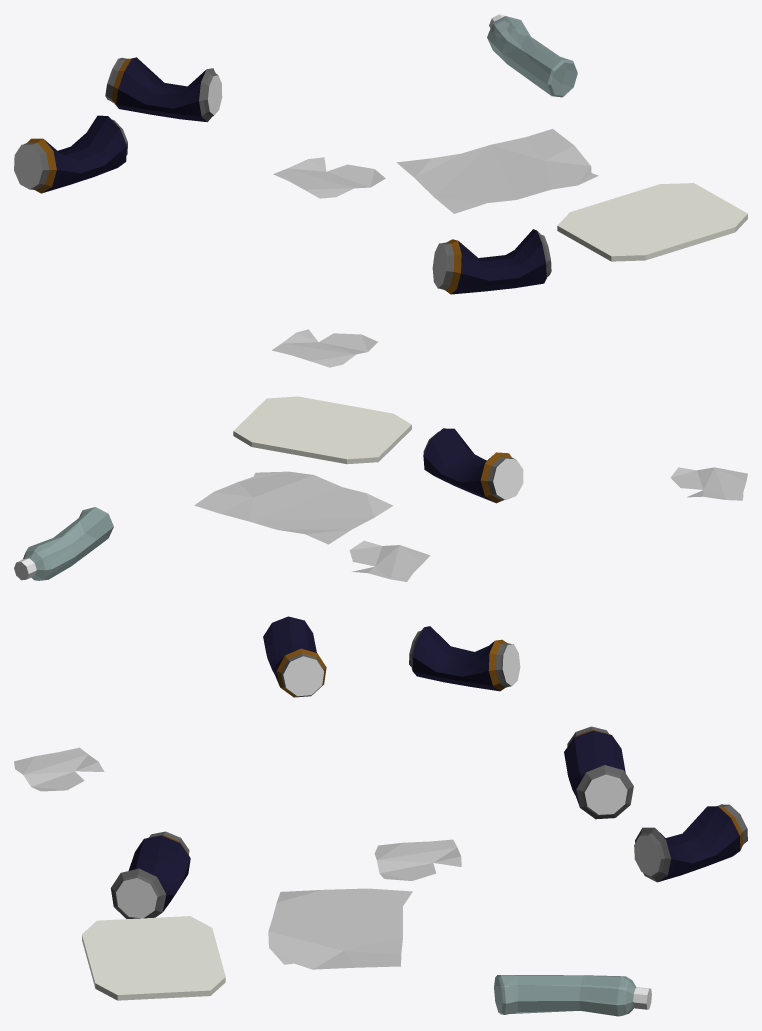
The model's file is WarehouseTrash7.glb.
The picture shows the model from 3 angles, top to bottom: view 1: azimuth 30°, elevation 25°; view 2: azimuth 150°, elevation 25°; view 3: azimuth 270°, elevation 25°; orthographic projection. The views are drawn at different scales.
Visible parts, largest first — view 1: HexPaper.008, SM_Paper_04.007, Soda.012, Soda.014, Soda.013, SM_Bottle_A_02.004, SM_Paper_03.006, SM_Paper_03.005; view 2: HexPaper.008, SM_Paper_04.007, Soda.012, Soda.014, Soda.013, SM_Bottle_A_02.004, SM_Paper_03.006, SM_Paper_03.005; view 3: HexPaper.008, SM_Paper_04.007, SM_Bottle_A_02.004, Soda.013, Soda.014, Soda.012, SM_Paper_03.006, SM_Paper_03.005.
Boxes of the visible parts, x1,y1,x2,y2 form: HexPaper.008: (557,183,747,261); SM_Paper_04.007: (396,129,598,213); Soda.012: (14,115,127,193); Soda.014: (432,229,551,294); Soda.013: (105,57,222,122); SM_Bottle_A_02.004: (487,14,577,97); SM_Paper_03.006: (273,157,385,198); SM_Paper_03.005: (272,329,377,367); HexPaper.008: (233,396,411,464); SM_Paper_04.007: (194,471,392,544); Soda.012: (409,626,520,691); Soda.014: (423,428,523,503); Soda.013: (263,616,326,697); SM_Bottle_A_02.004: (14,507,113,580); SM_Paper_03.006: (349,540,430,581); SM_Paper_03.005: (670,467,747,500); HexPaper.008: (82,916,225,1000); SM_Paper_04.007: (268,888,412,969); SM_Bottle_A_02.004: (494,975,651,1016); Soda.013: (634,804,747,882); Soda.014: (110,831,190,918); Soda.012: (564,726,633,819); SM_Paper_03.006: (374,839,461,880); SM_Paper_03.005: (14,747,104,791).
Size of the model in its own units: 0.4932 by 0.0468 by 0.586.
